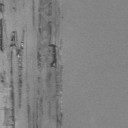slag inclusion: (26, 0, 66, 128), (4, 28, 25, 126), (0, 18, 4, 52), (0, 2, 6, 14), (37, 75, 41, 83), (0, 78, 5, 84)
